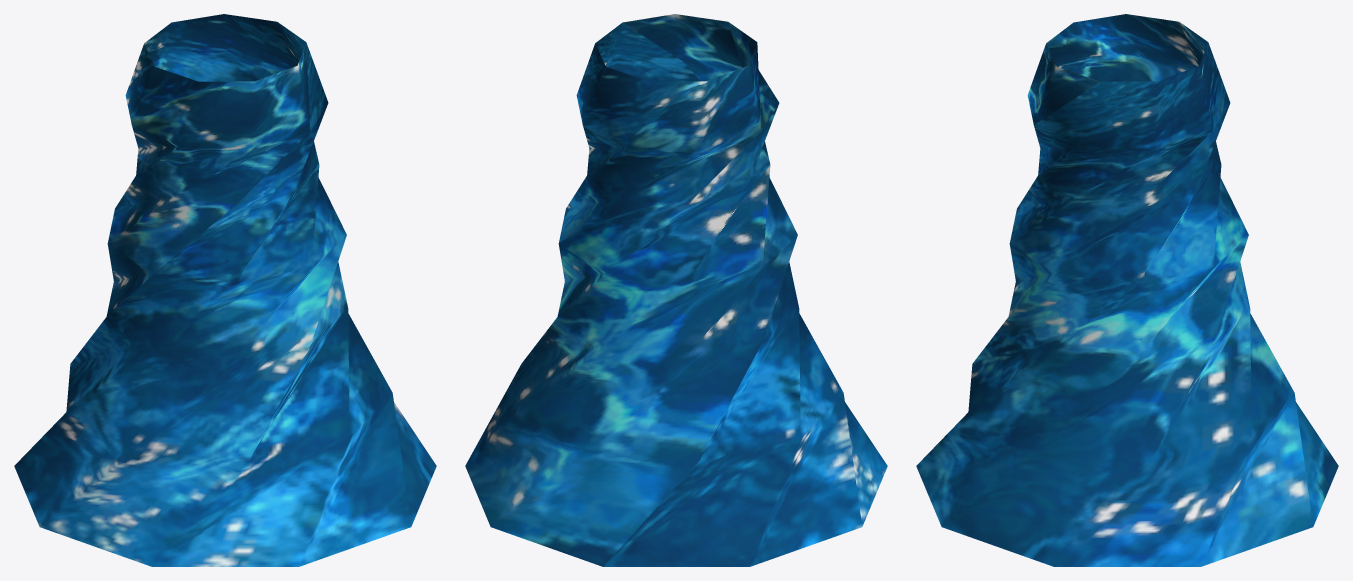
The model's file is shuizhu.FBX.
The picture shows the model from 3 angles, left to right: view 1: azimuth 30°, elevation 25°; view 2: azimuth 150°, elevation 25°; view 3: azimuth 270°, elevation 25°; orthographic projection.
Visible parts, largest first — view 1: shuizhu; view 2: shuizhu; view 3: shuizhu.
Boxes of the visible parts, x1,y1,x2,y2 form: shuizhu: (14, 14, 436, 566); shuizhu: (465, 14, 887, 566); shuizhu: (916, 14, 1338, 566).
Bounding box in the file's own units: 0.6535 × 0.7501 × 0.6636.
